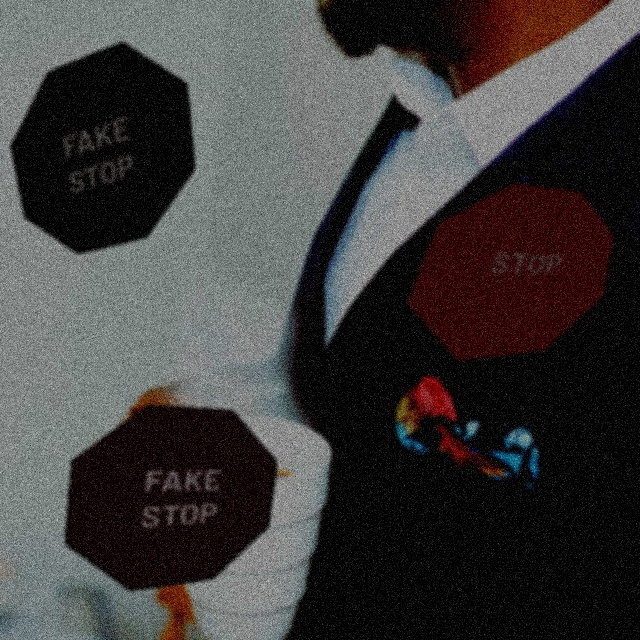FAKE_STOP: (64, 404, 277, 591), (10, 41, 195, 254)
STOP: (403, 181, 616, 364)
